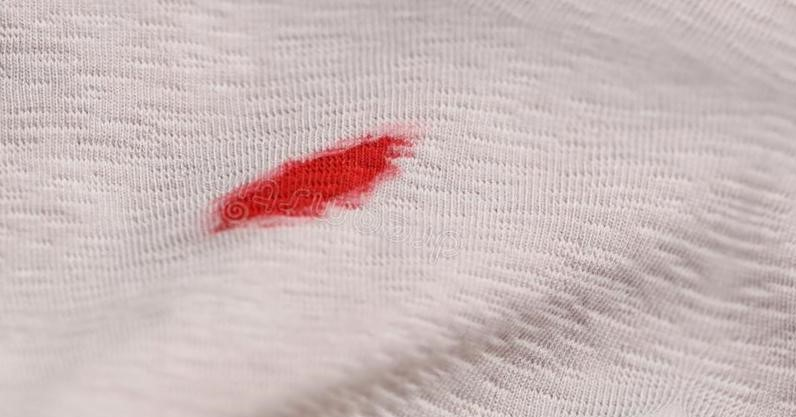stain: (208, 130, 414, 239)
